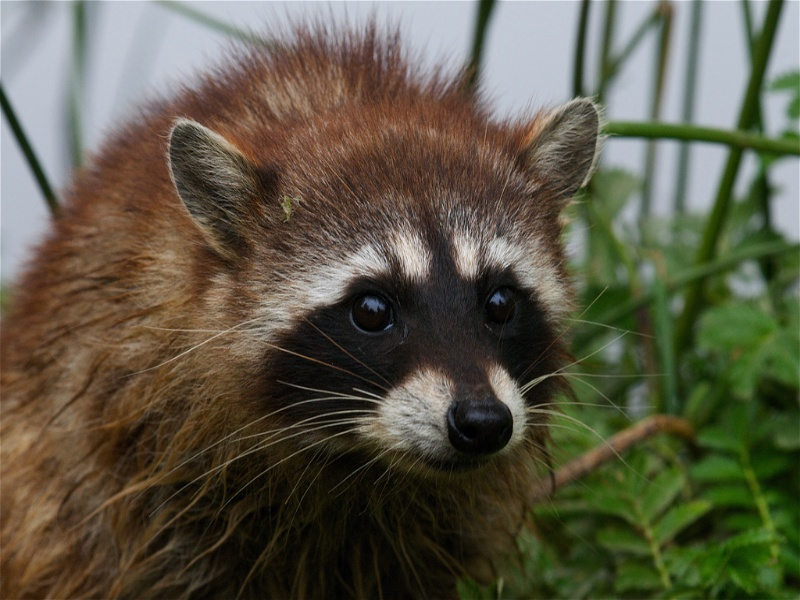raccoon: (5, 23, 609, 594)
